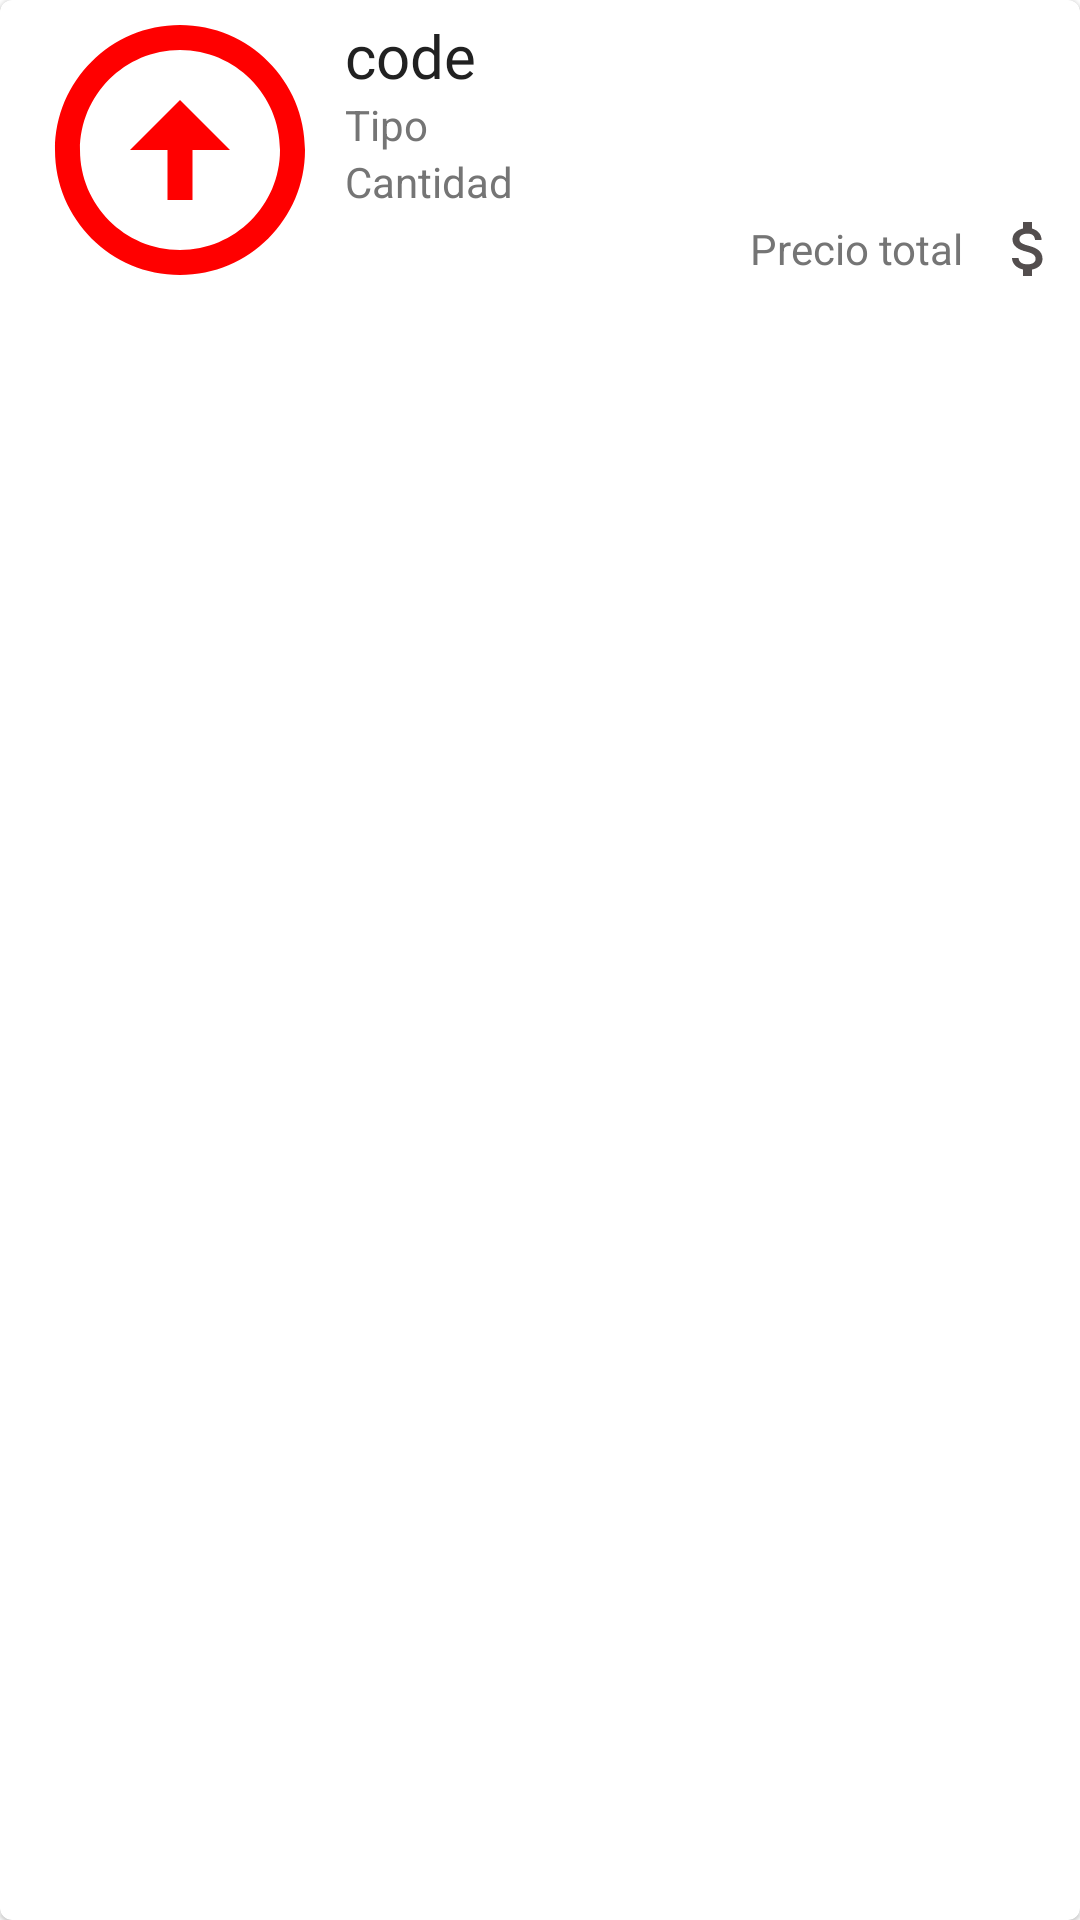

Point at icon controls on the screen. Image size 1080 × 1920, points as point (x, y).
arrow circle up: point (180, 150)
